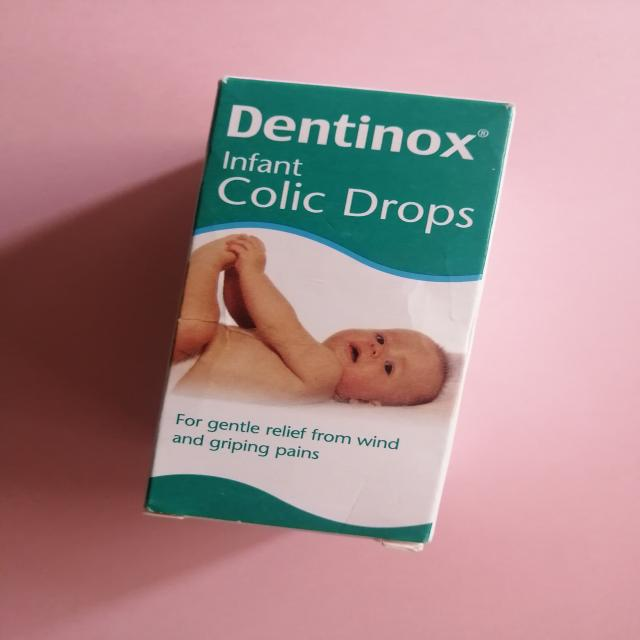Medicine: (131, 71, 517, 551)
